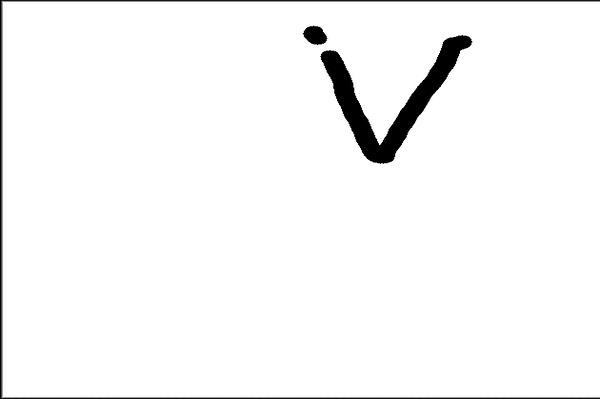V: (291, 10, 472, 172)
